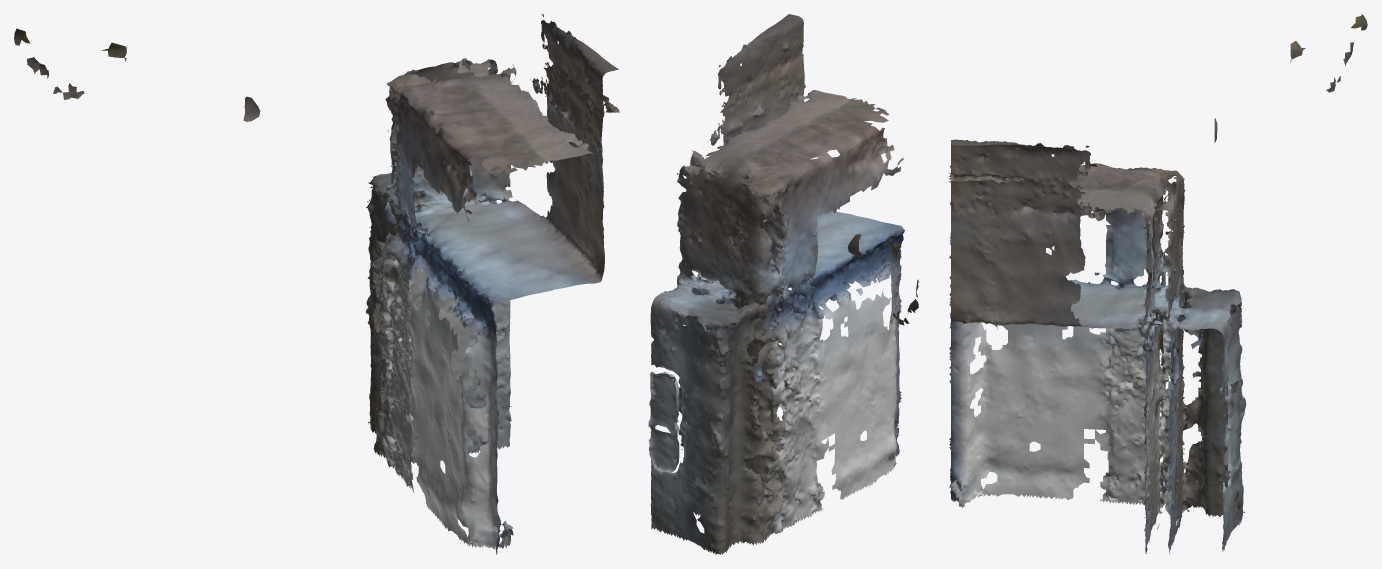
Rendered from fine.glb.
The picture shows the model from 3 angles, left to right: view 1: azimuth 30°, elevation 25°; view 2: azimuth 150°, elevation 25°; view 3: azimuth 270°, elevation 25°; orthographic projection. The views are drawn at different scales.
Bounding box in the file's own units: 1.26 × 1.48 × 1.37.
